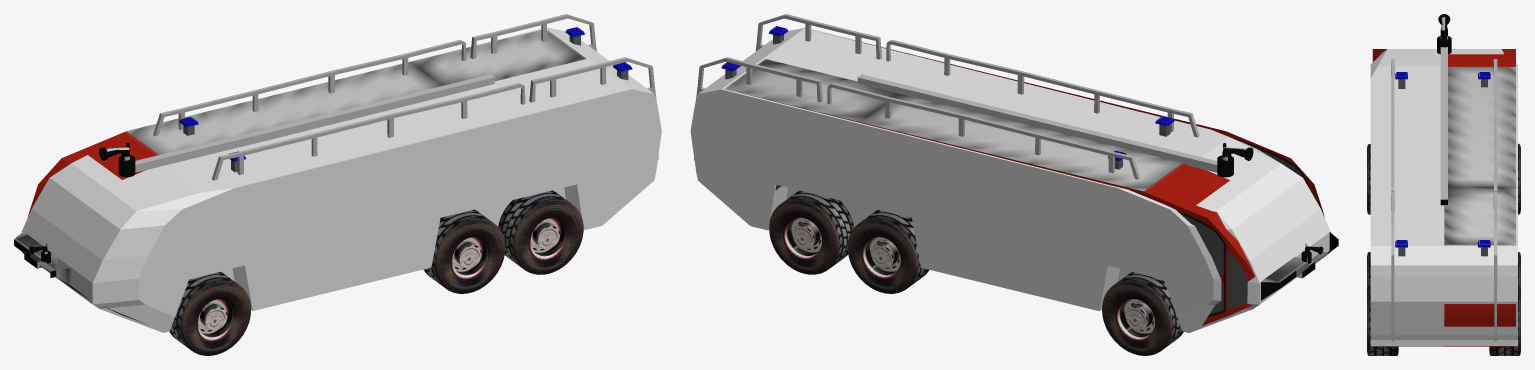
File: fire.gltf
3 views of the same model, side by side, from view 1: azimuth 30°, elevation 25°; view 2: azimuth 150°, elevation 25°; view 3: azimuth 270°, elevation 25° (orthographic). The views are drawn at different scales.
Visible parts, largest first — view 1: Cube, Cube.005, Cylinder.003, Cylinder.007, Cylinder, Cube.002, Cube.003, Cube.004, Cylinder.001; view 2: Cube, Cube.005, Cylinder.004, Cylinder.006, Cylinder.005, Cube.002, Cube.004, Cube.003, Cylinder.001; view 3: Cube, Cube.005, Cube.002, Cube.003, Cube.004, Cylinder.003, Cylinder.004, Cylinder.001, Cylinder.007, Cylinder.006, Cube.006, Cube.007 (+3 smaller).
Boxes of the visible parts, bbox=[...] form: Cube: bbox=[22, 27, 661, 332]; Cube.005: bbox=[14, 30, 586, 324]; Cylinder.003: bbox=[498, 190, 583, 274]; Cylinder.007: bbox=[169, 271, 250, 355]; Cylinder: bbox=[423, 209, 505, 293]; Cube.002: bbox=[135, 74, 494, 172]; Cube.003: bbox=[212, 57, 658, 180]; Cube.004: bbox=[153, 14, 596, 136]; Cylinder.001: bbox=[99, 143, 135, 177]; Cube: bbox=[690, 27, 1330, 332]; Cube.005: bbox=[724, 33, 1338, 325]; Cylinder.004: bbox=[769, 190, 854, 274]; Cylinder.006: bbox=[1102, 272, 1183, 355]; Cylinder.005: bbox=[847, 209, 929, 293]; Cube.002: bbox=[857, 74, 1217, 172]; Cube.004: bbox=[694, 57, 1140, 179]; Cube.003: bbox=[755, 14, 1199, 137]; Cylinder.001: bbox=[1217, 143, 1253, 177]; Cube: bbox=[1370, 49, 1517, 346]; Cube.005: bbox=[1372, 49, 1515, 346]; Cube.002: bbox=[1440, 47, 1447, 205]; Cube.003: bbox=[1391, 59, 1394, 341]; Cube.004: bbox=[1493, 59, 1497, 341]; Cylinder.003: bbox=[1367, 285, 1398, 355]; Cylinder.004: bbox=[1489, 285, 1520, 355]; Cylinder.001: bbox=[1437, 14, 1451, 54]; Cylinder.007: bbox=[1367, 144, 1370, 214]; Cylinder.006: bbox=[1518, 143, 1520, 214]; Cube.006: bbox=[1395, 72, 1407, 88]; Cube.007: bbox=[1395, 240, 1407, 256].
Size of the model in its own units: 1176 by 362 by 301.
